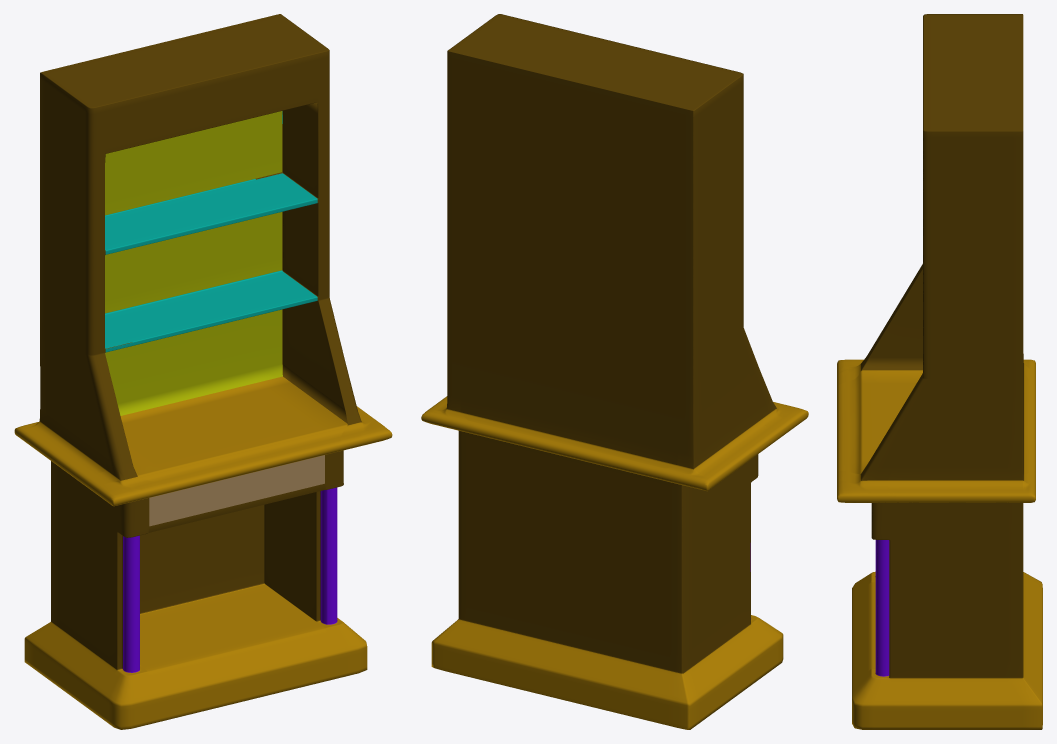
The model's file is Shelves.fbx.
3 views of the same model, side by side, from view 1: azimuth 30°, elevation 25°; view 2: azimuth 150°, elevation 25°; view 3: azimuth 270°, elevation 25° (orthographic). The views are drawn at different scales.
Parts seen in each view (by area): view 1: pCube2; view 2: pCube2; view 3: pCube2.
Part boxes in pixels (left/top/right/bottom): pCube2: left=14, top=14, right=392, bottom=729; pCube2: left=421, top=14, right=808, bottom=729; pCube2: left=837, top=14, right=1042, bottom=729.
Bounding box in the file's own units: 115 × 234 × 73.14.
